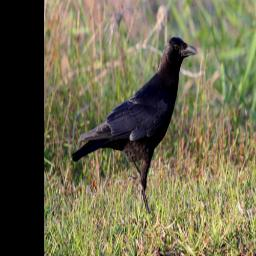Crow: (70, 34, 199, 220)
